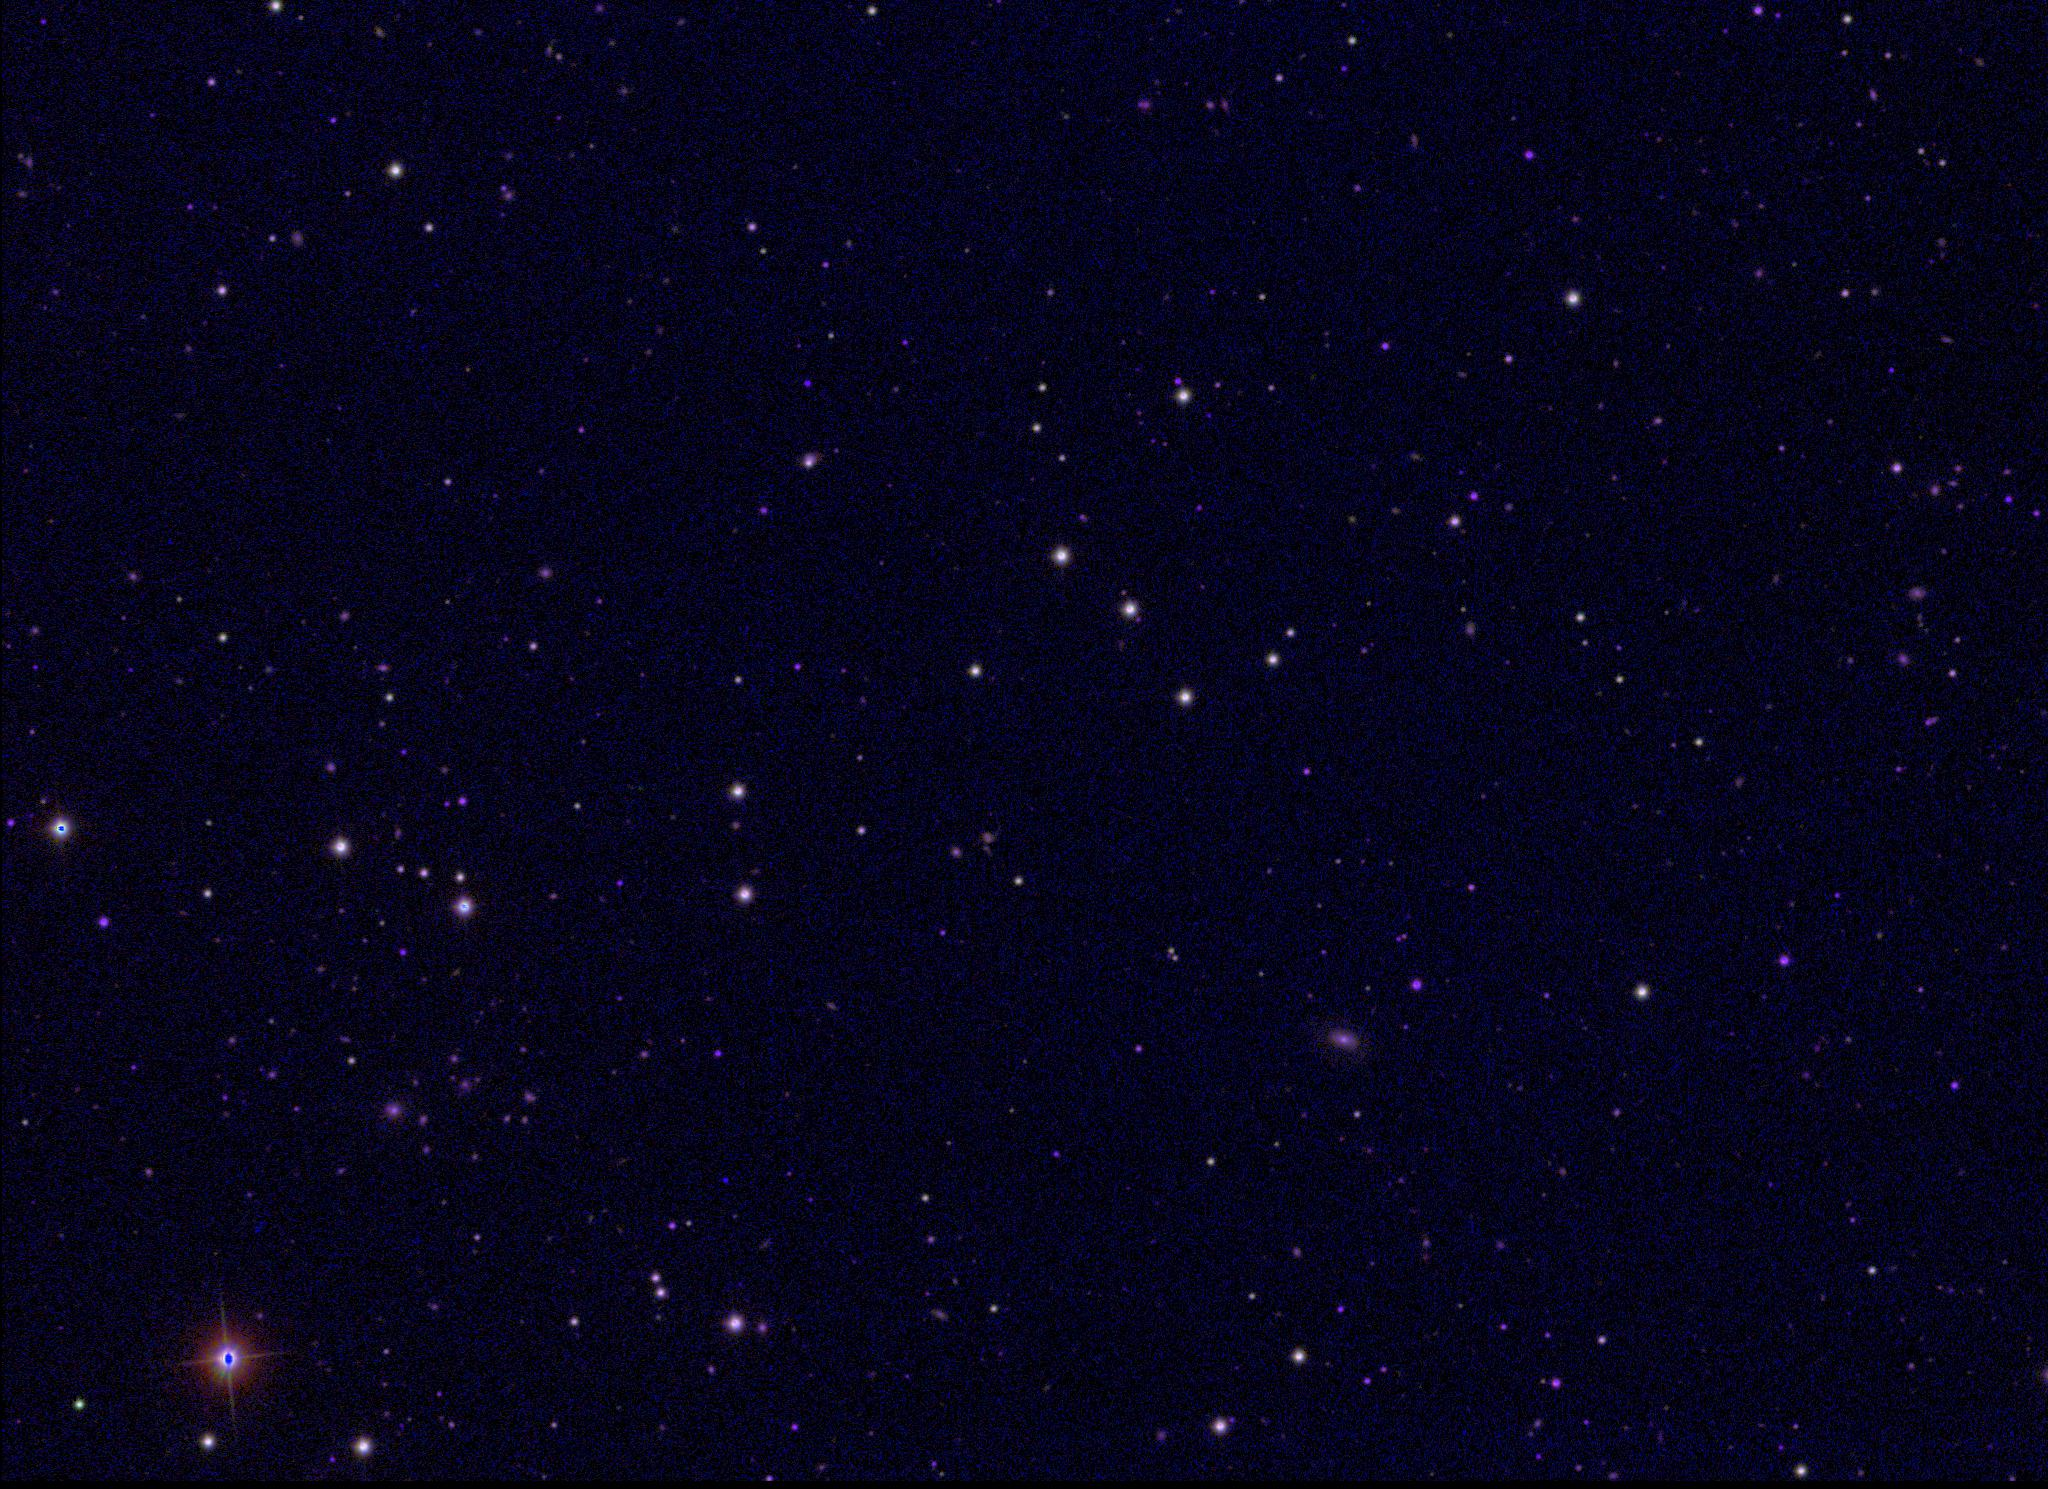L: (719, 1172, 731, 1187)
